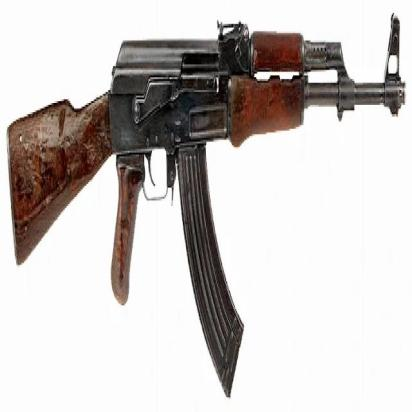Gun: (4, 16, 406, 380)
